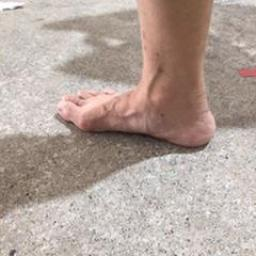Medial View -Right Foot-: (51, 42, 219, 154)
